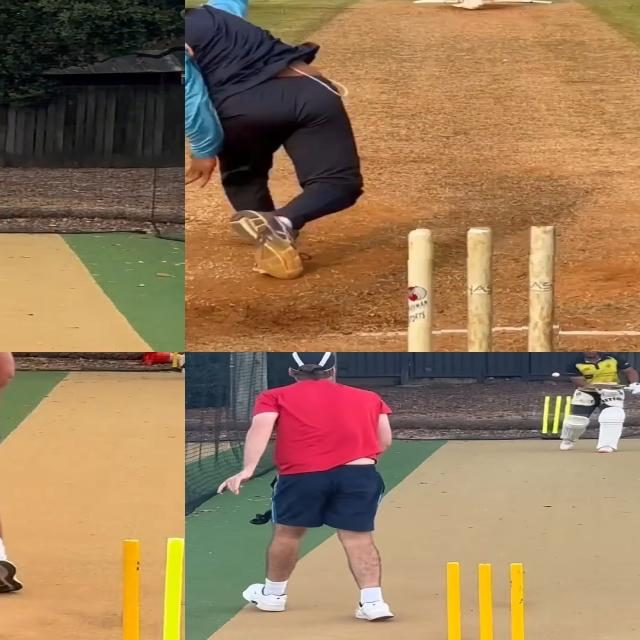Cricket ball: (550, 372, 562, 378)
Stumps: (402, 226, 561, 352), (99, 535, 185, 640), (436, 561, 542, 640), (541, 396, 573, 439)
